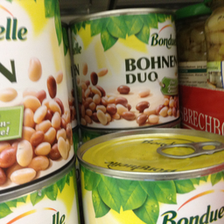beans: (1, 1, 76, 196), (73, 9, 182, 131)
